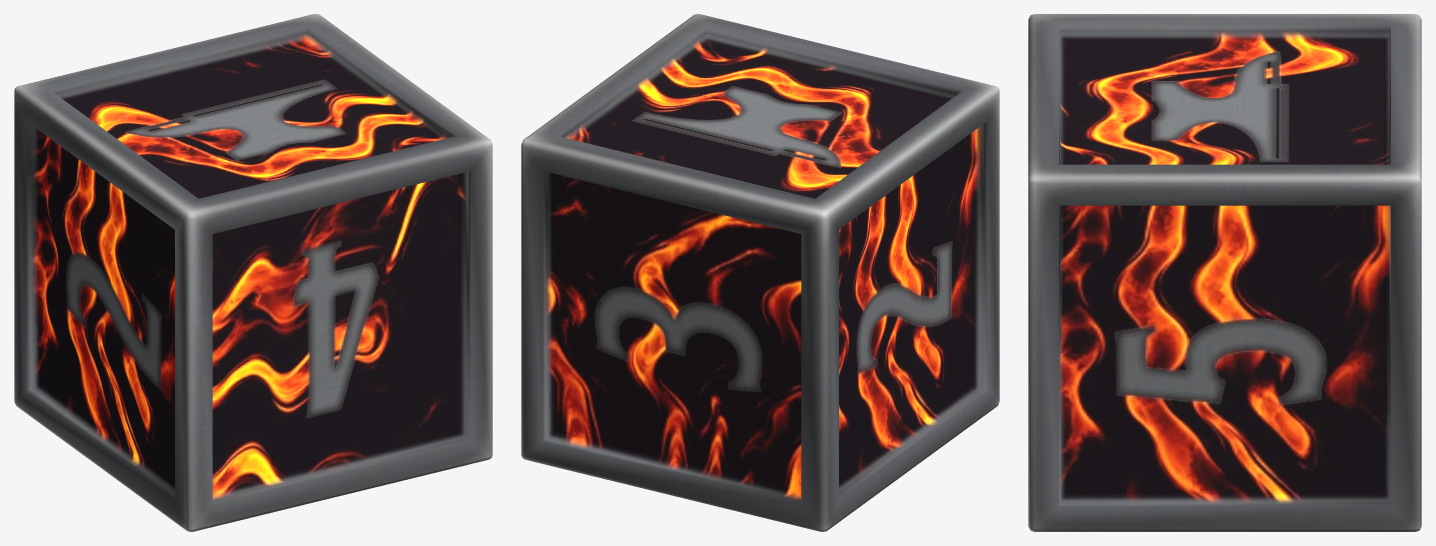
Rendered from dice_6.gltf.
3 views of the same model, side by side, from view 1: azimuth 30°, elevation 25°; view 2: azimuth 150°, elevation 25°; view 3: azimuth 270°, elevation 25° (orthographic). The views are drawn at different scales.
Parts seen in each view (by area): view 1: dice_6; view 2: dice_6; view 3: dice_6.
Part boxes in pixels (bbox=[...]): dice_6: bbox=[14, 14, 492, 531]; dice_6: bbox=[521, 14, 999, 531]; dice_6: bbox=[1028, 14, 1421, 531].
Size of the model in its own units: 104 by 104 by 104.
1 material, 1 textured.
